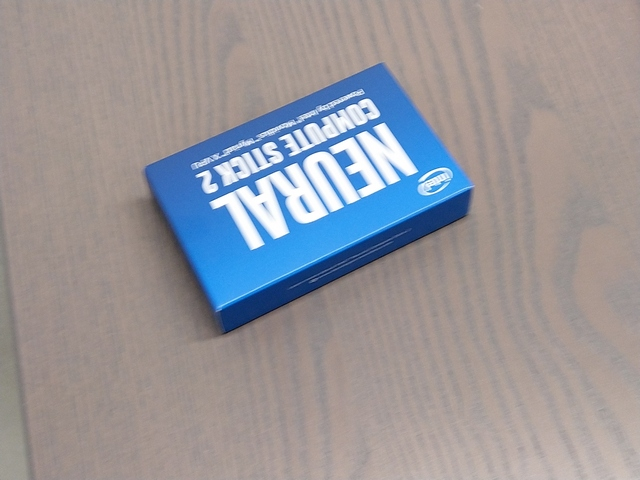box: (144, 62, 475, 336)
